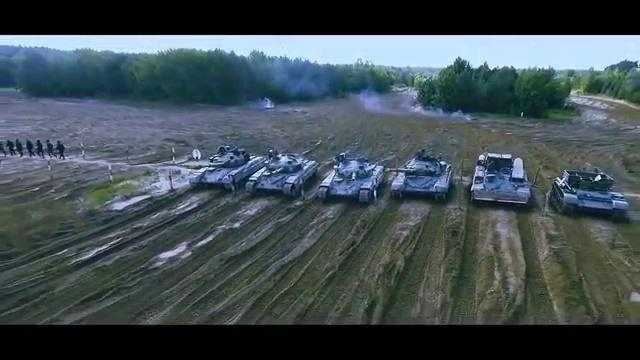person: (46, 139, 57, 158), (25, 139, 36, 158), (56, 140, 66, 160), (6, 139, 17, 156), (36, 139, 45, 158), (16, 138, 24, 158)
tank: (552, 168, 630, 218), (188, 145, 268, 191), (247, 148, 321, 197), (316, 154, 386, 204), (386, 151, 454, 201), (471, 152, 531, 206)
